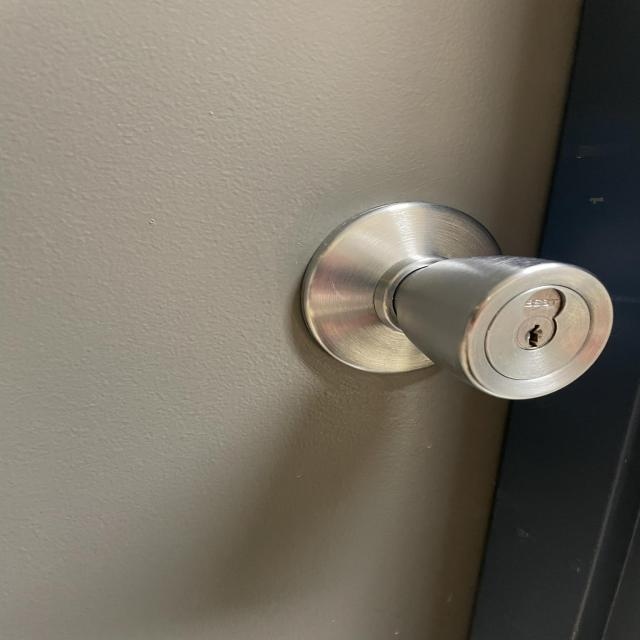door-knob: (302, 202, 612, 399)
